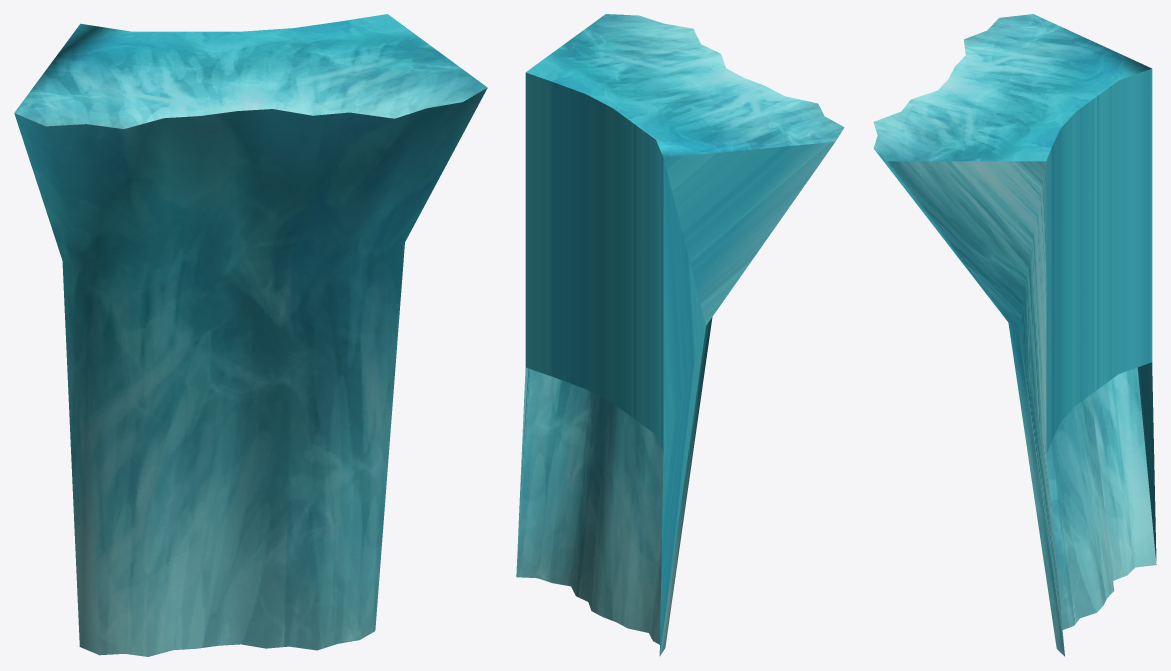
File: ic_arthas_iceshard03.obj
The picture shows the model from 3 angles, left to right: view 1: azimuth 30°, elevation 25°; view 2: azimuth 150°, elevation 25°; view 3: azimuth 270°, elevation 25°; orthographic projection. The views are drawn at different scales.
Visible parts, largest first — view 1: IC_arthas_iceshard03; view 2: IC_arthas_iceshard03; view 3: IC_arthas_iceshard03.
Part boxes in pixels (box(x1,y1,x2,y2)): IC_arthas_iceshard03: box(14, 14, 487, 656); IC_arthas_iceshard03: box(516, 14, 844, 656); IC_arthas_iceshard03: box(873, 14, 1156, 656).
Size of the model in its own units: 52.62 by 82.47 by 42.68.
